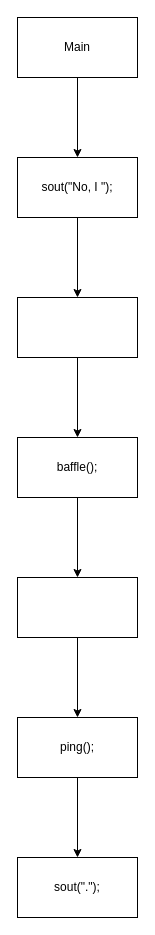
Image size: 155x935. Some labels were removed from this diagram. The centre of each missing label's shape, as x and y in pixels:
sout("wug");: point 77,607
zoop();: point 77,327
